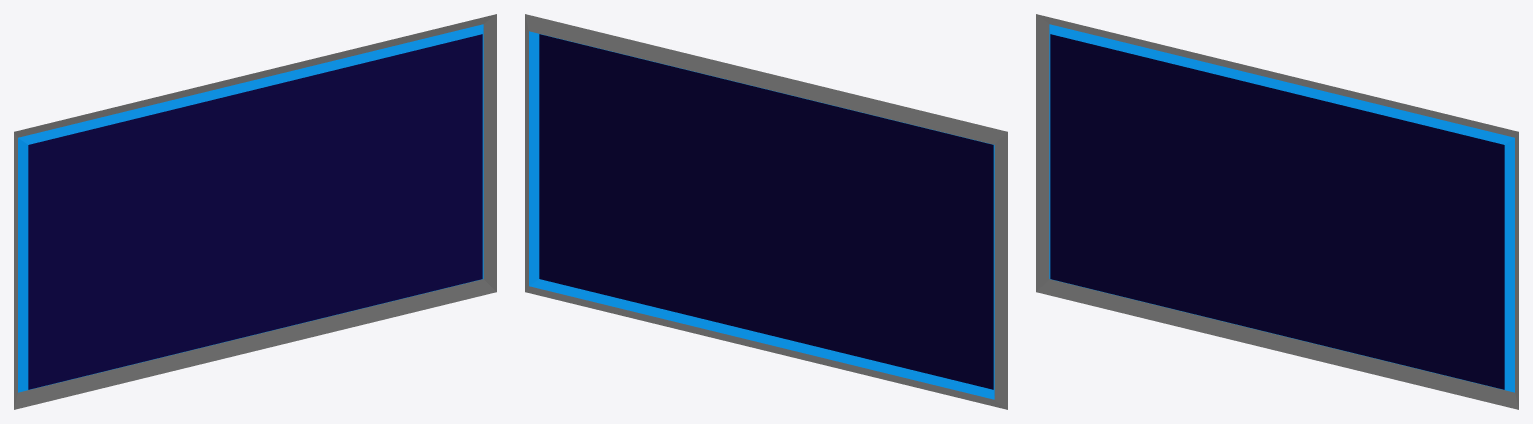
The model's file is content-keyword-background.glb.
3 views of the same model, side by side, from view 1: azimuth 30°, elevation 25°; view 2: azimuth 150°, elevation 25°; view 3: azimuth 330°, elevation 25° (orthographic).
Parts seen in each view (by area): view 1: keyword-background; view 2: keyword-background; view 3: keyword-background.
Boxes of the visible parts, box(x1,y1,x2,y2) form: keyword-background: box(14, 14, 496, 409); keyword-background: box(525, 14, 1007, 409); keyword-background: box(1036, 14, 1518, 409).
Size of the model in its own units: 2.07 by 1.14 by 0.0359.
Materials: 1 (1 with a texture image).
